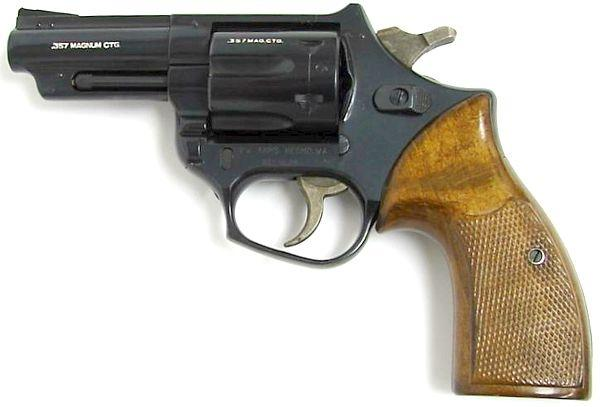gun: (3, 1, 597, 407)
